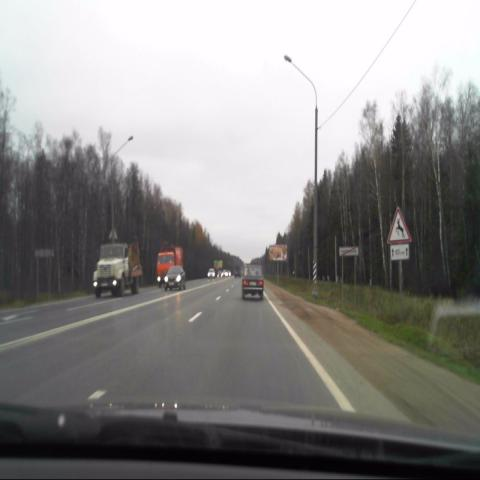1_27: (387, 207, 412, 244)
